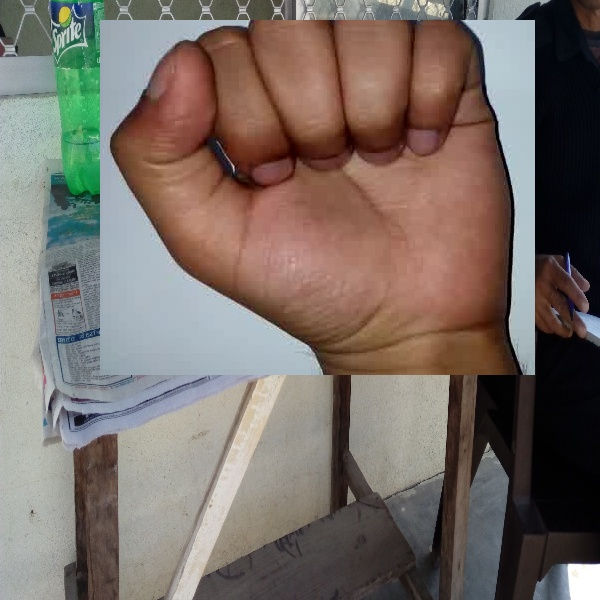A: (100, 20, 535, 375)
